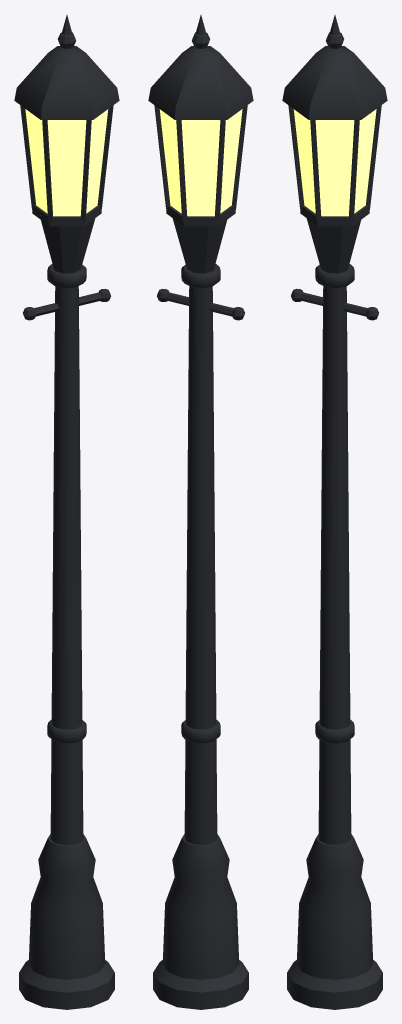
File: street_lamp.glb
3 renders of one model, left to right at view 1: azimuth 30°, elevation 25°; view 2: azimuth 150°, elevation 25°; view 3: azimuth 330°, elevation 25°, orthographic.
Visible parts, largest first — view 1: body; view 2: body; view 3: body.
Part boxes in pixels (x1=…): body: x1=14, y1=15, x2=119, y2=1009; body: x1=148, y1=15, x2=253, y2=1009; body: x1=282, y1=15, x2=387, y2=1009.
Bounding box in the file's own units: 42 × 450 × 44.
